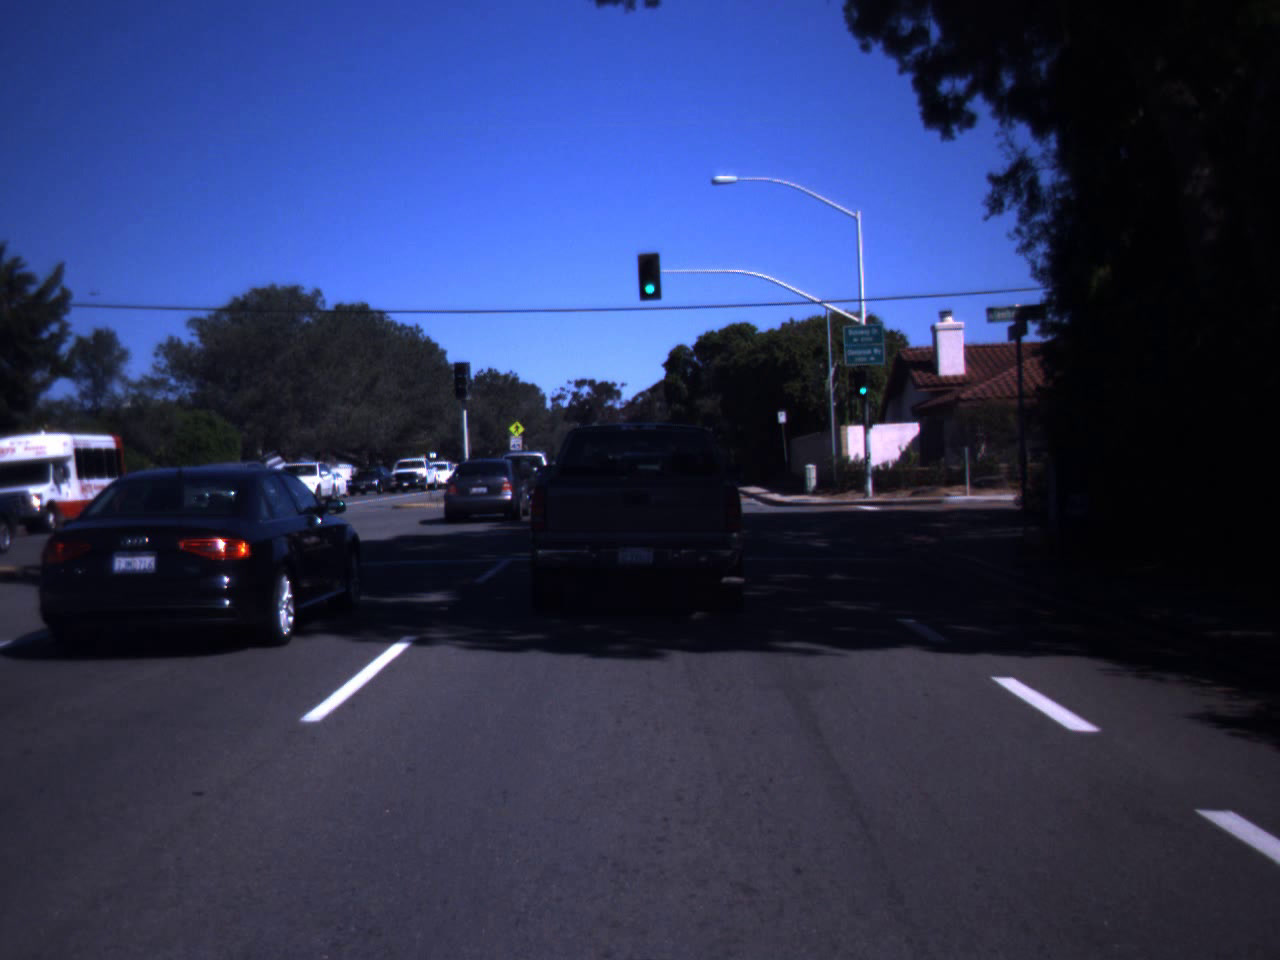go: (638, 257, 662, 297), (854, 367, 872, 397)
